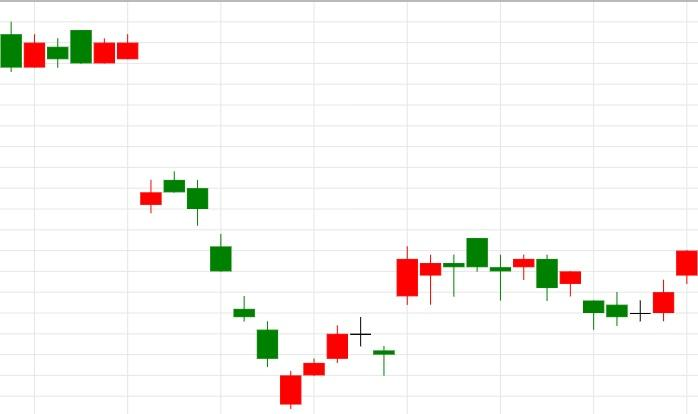morning_star_rise: (466, 237, 675, 329)
three_white_soldiers_rise: (117, 34, 348, 410)
